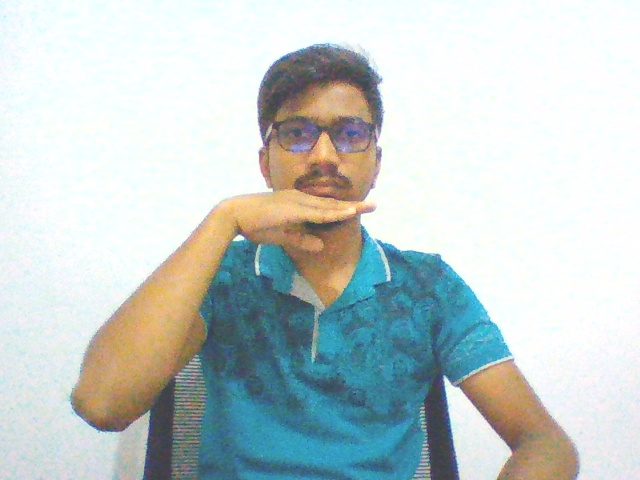elephant: (212, 186, 387, 261)
